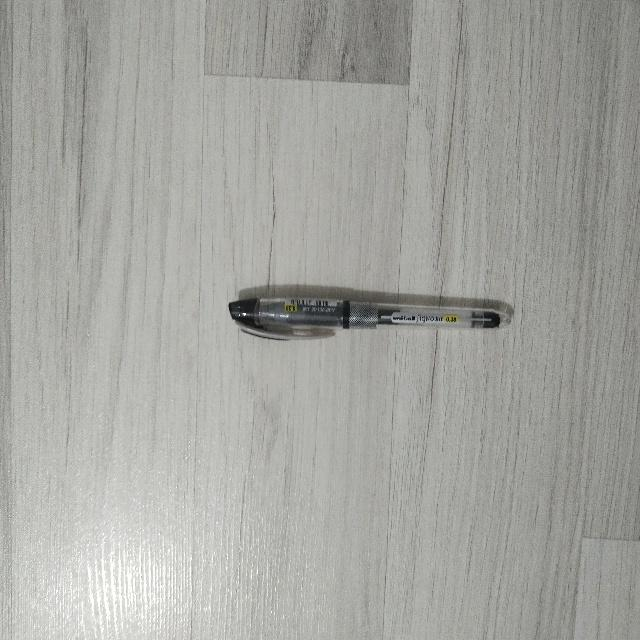pen: (229, 298, 510, 339)
